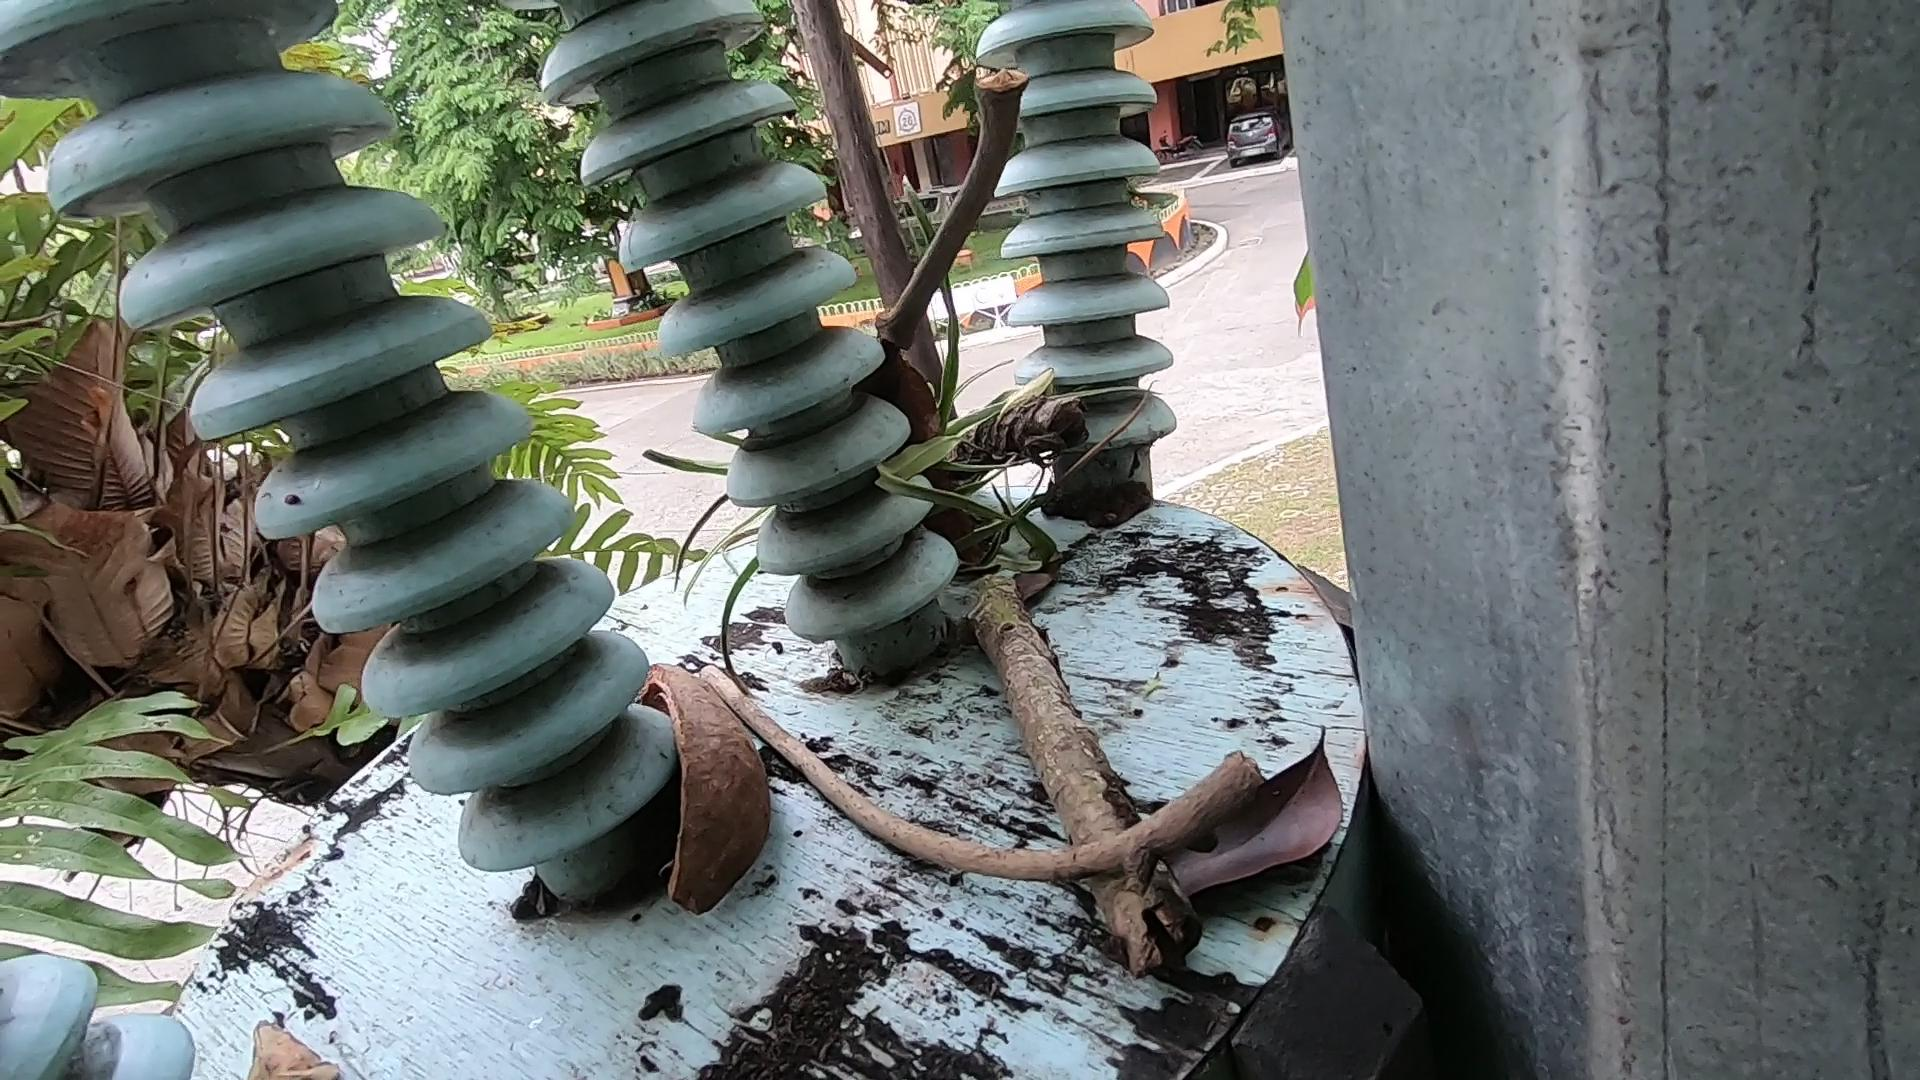branch with leaves: (951, 345, 1265, 990)
leaf: (1174, 646, 1441, 945), (131, 976, 425, 1080)
mahogany fruit: (855, 326, 1022, 624), (644, 615, 785, 963)
tree branch: (666, 659, 1524, 915), (868, 1, 1062, 382)
